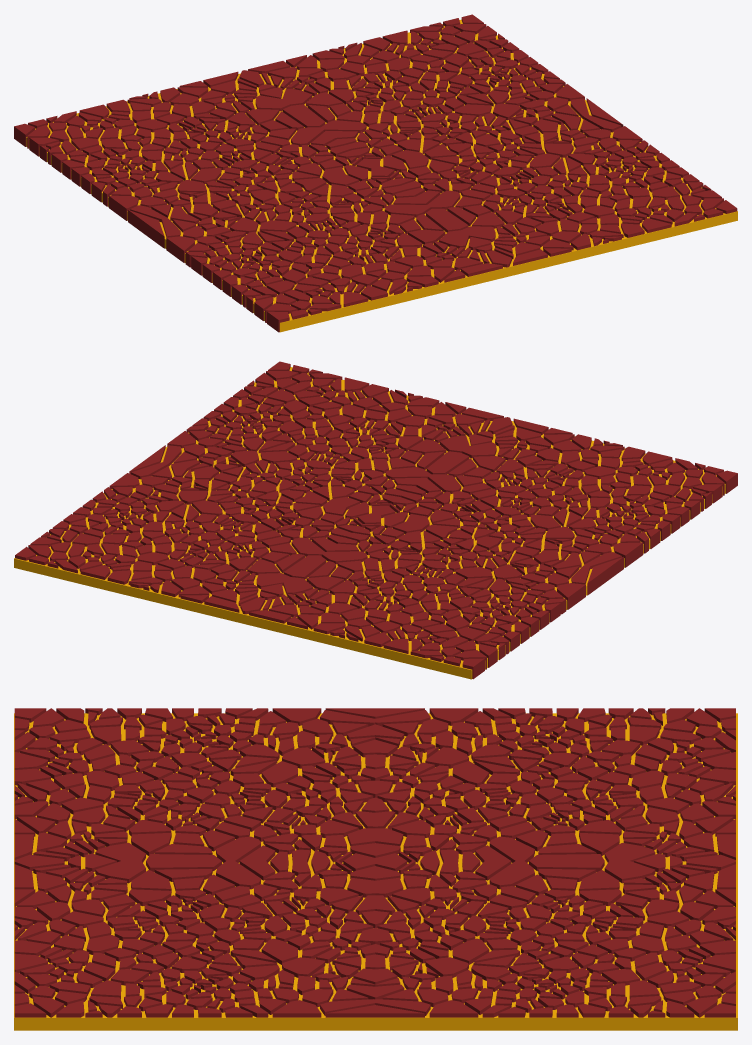
The model's file is just-lava.fbx.
3 renders of one model, top to bottom at view 1: azimuth 30°, elevation 25°; view 2: azimuth 150°, elevation 25°; view 3: azimuth 270°, elevation 25°, orthographic. The views are drawn at different scales.
Parts seen in each view (by area): view 1: imagetostl_mesh0; view 2: imagetostl_mesh0; view 3: imagetostl_mesh0.
Boxes of the visible parts, x1,y1,x2,y2 form: imagetostl_mesh0: [14, 14, 737, 332]; imagetostl_mesh0: [14, 361, 737, 679]; imagetostl_mesh0: [14, 708, 737, 1030].
Size of the model in its own units: 62140 by 1600 by 62300.
